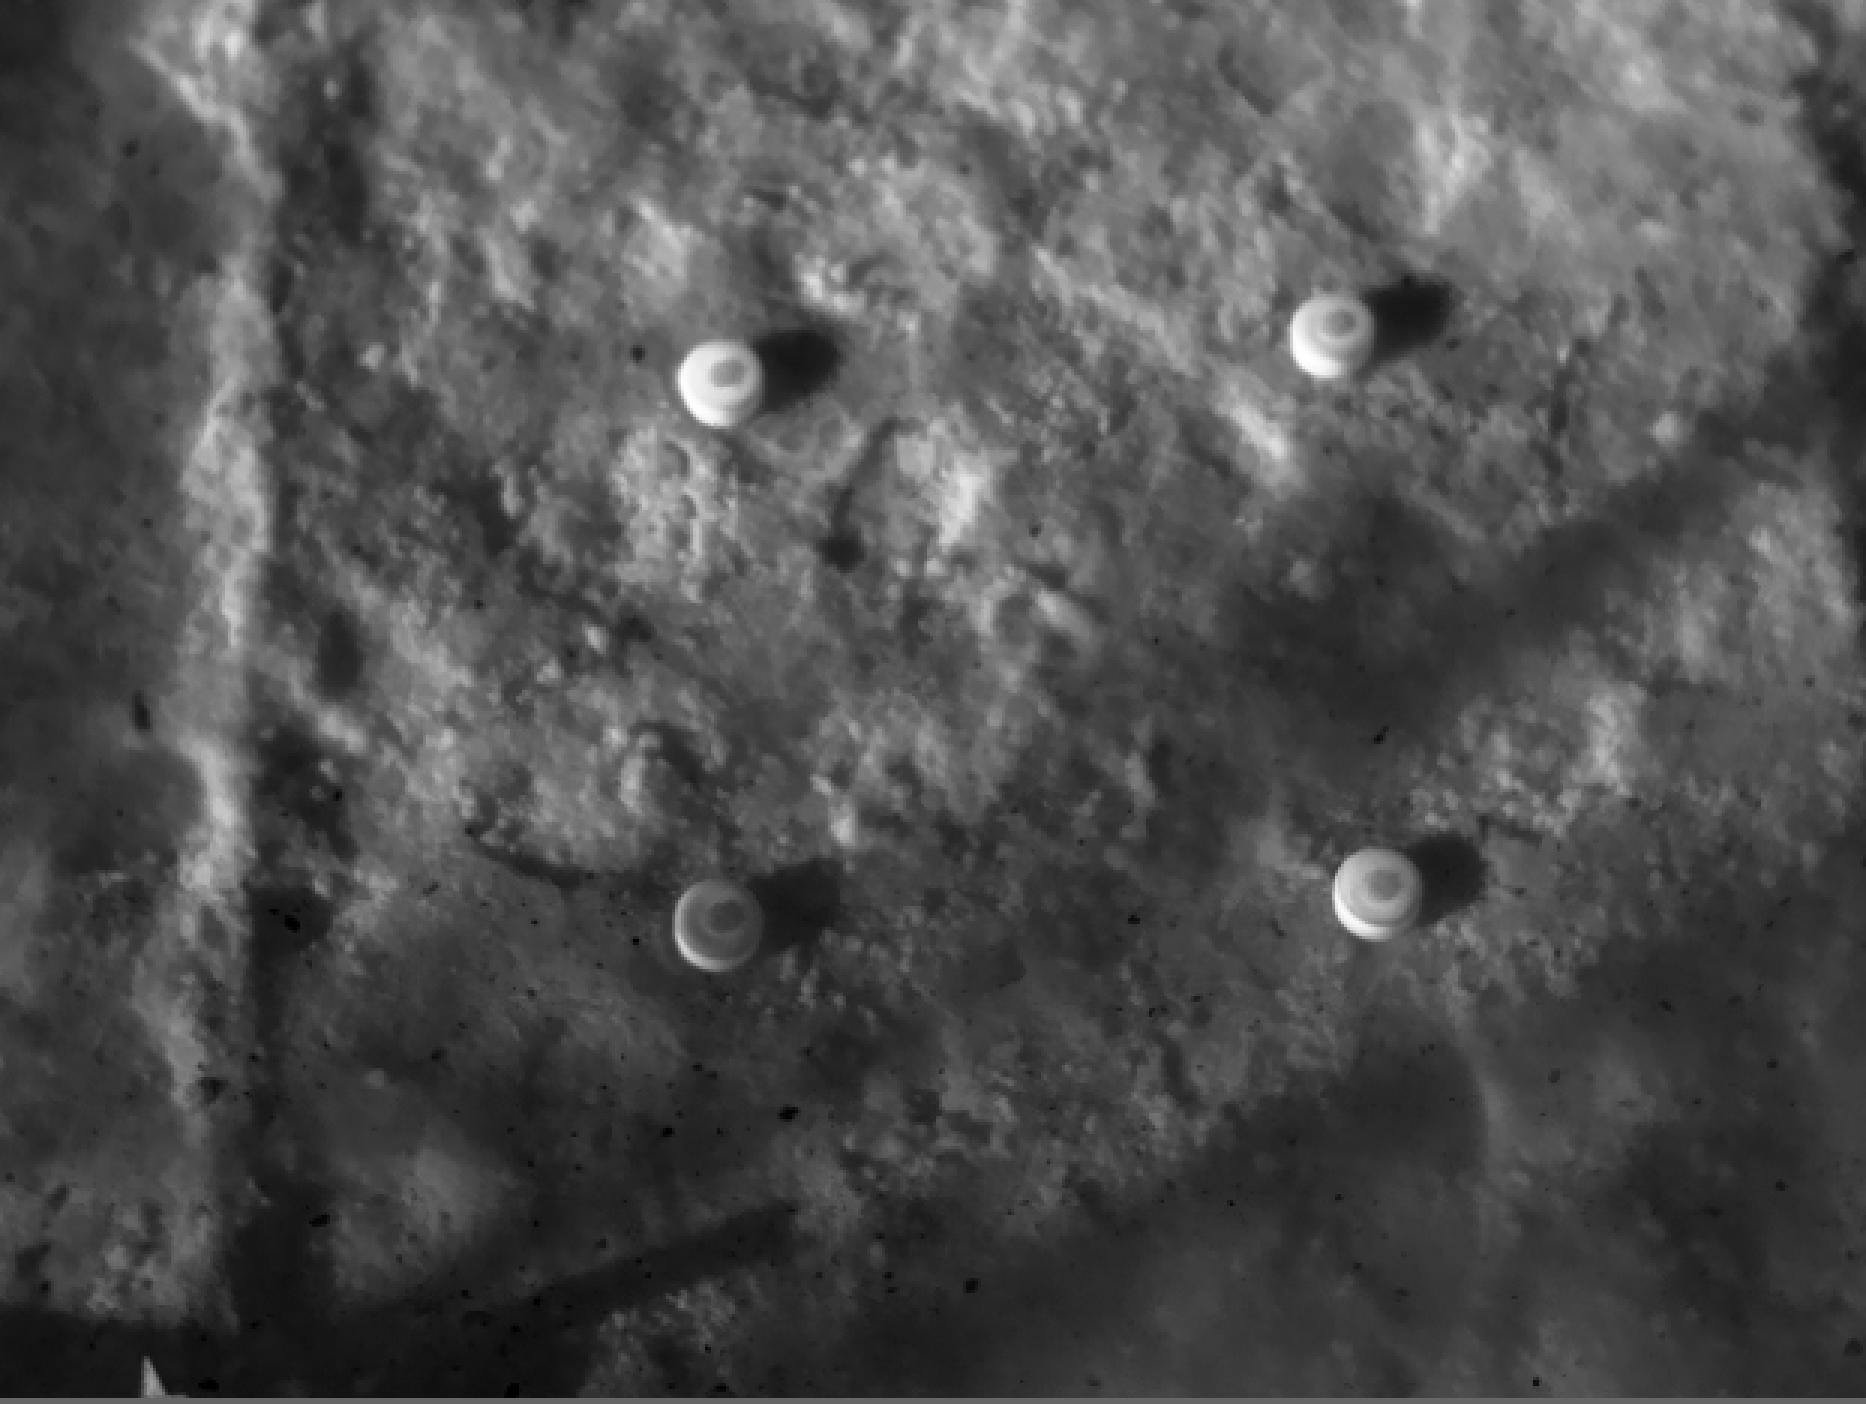mines-gjV8: (681, 335, 779, 428), (1325, 852, 1426, 936), (1292, 288, 1381, 380), (673, 882, 769, 962)
